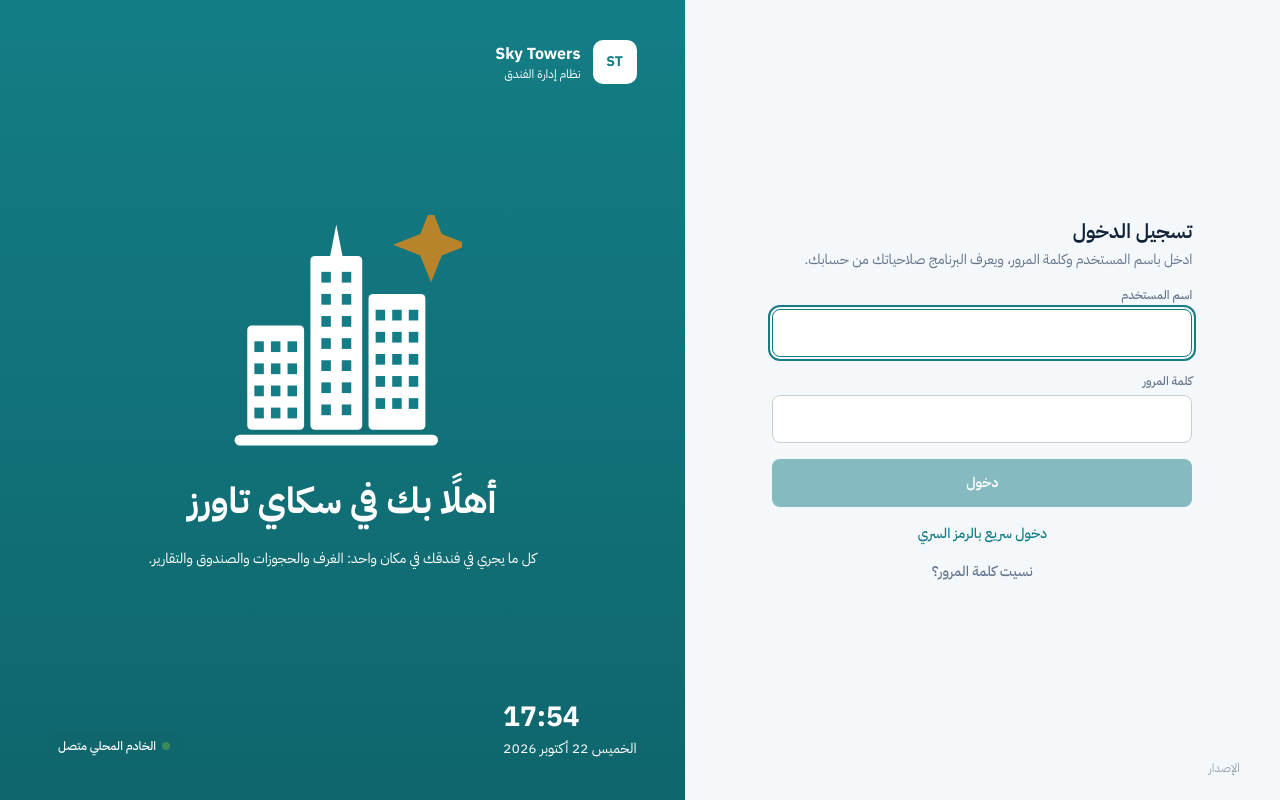
Test case: a wrong password says how many attempts are left, then until when the account is locked
Type "admin" into the field labelled "اسم المستخدم".
click(982, 333); type("admin")  # box [772,309,1192,357]
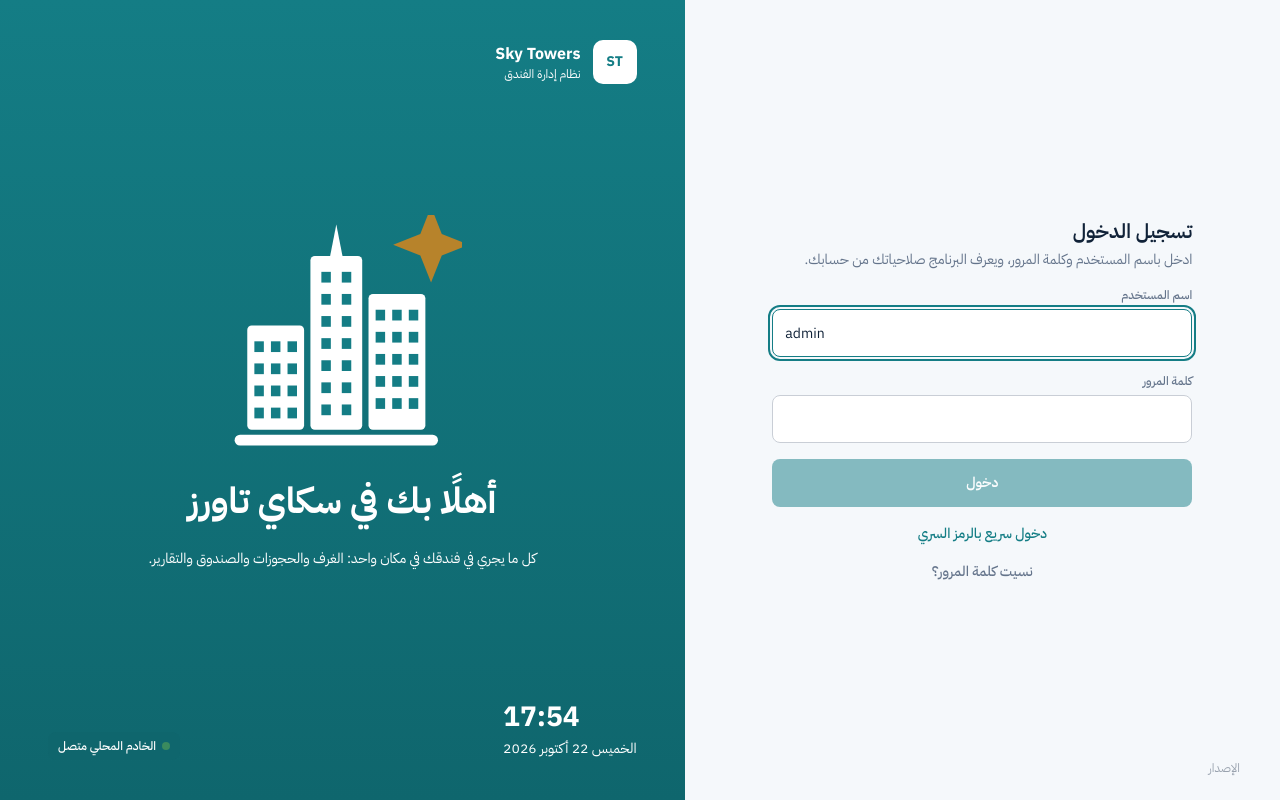
Type "nope" into the password field labelled "كلمة المرور".
click(982, 419); type("nope")  # box [772,395,1192,443]
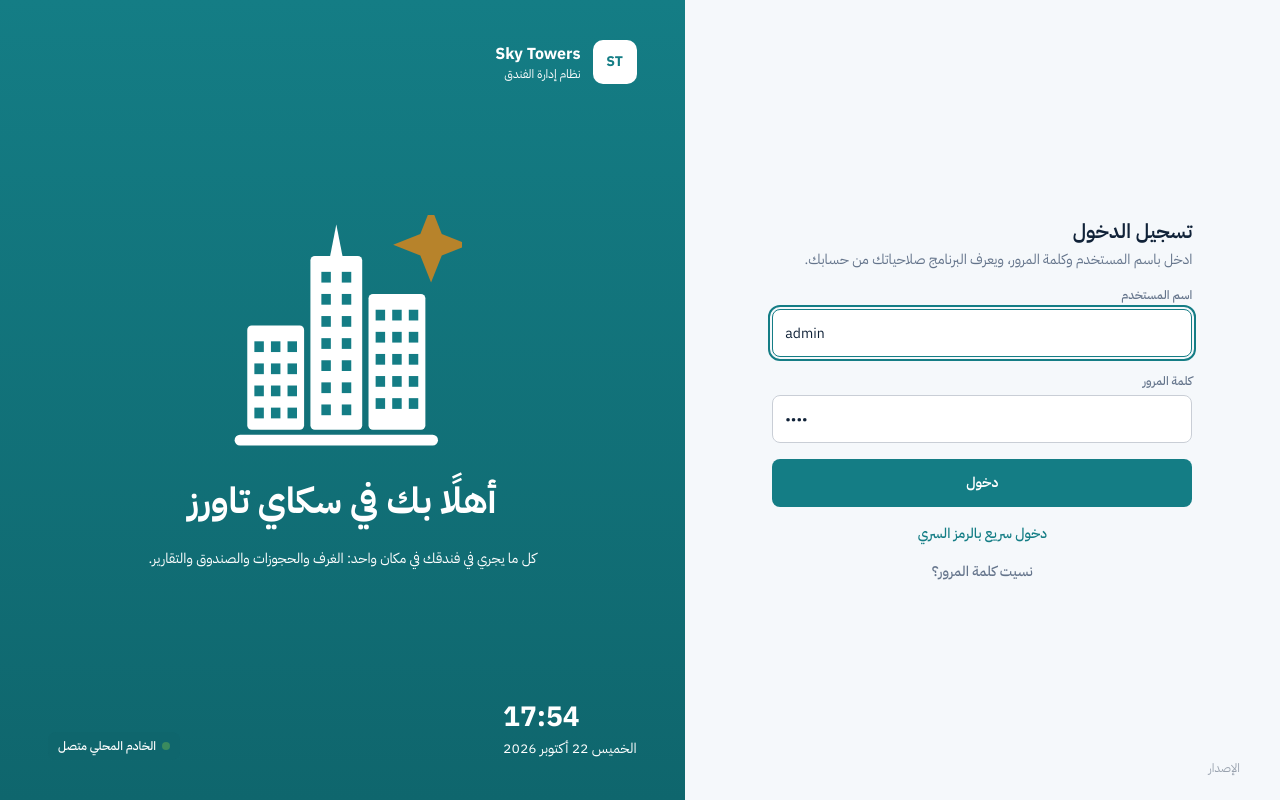
Click the button "دخول".
click(982, 483)  # box [772,459,1192,507]
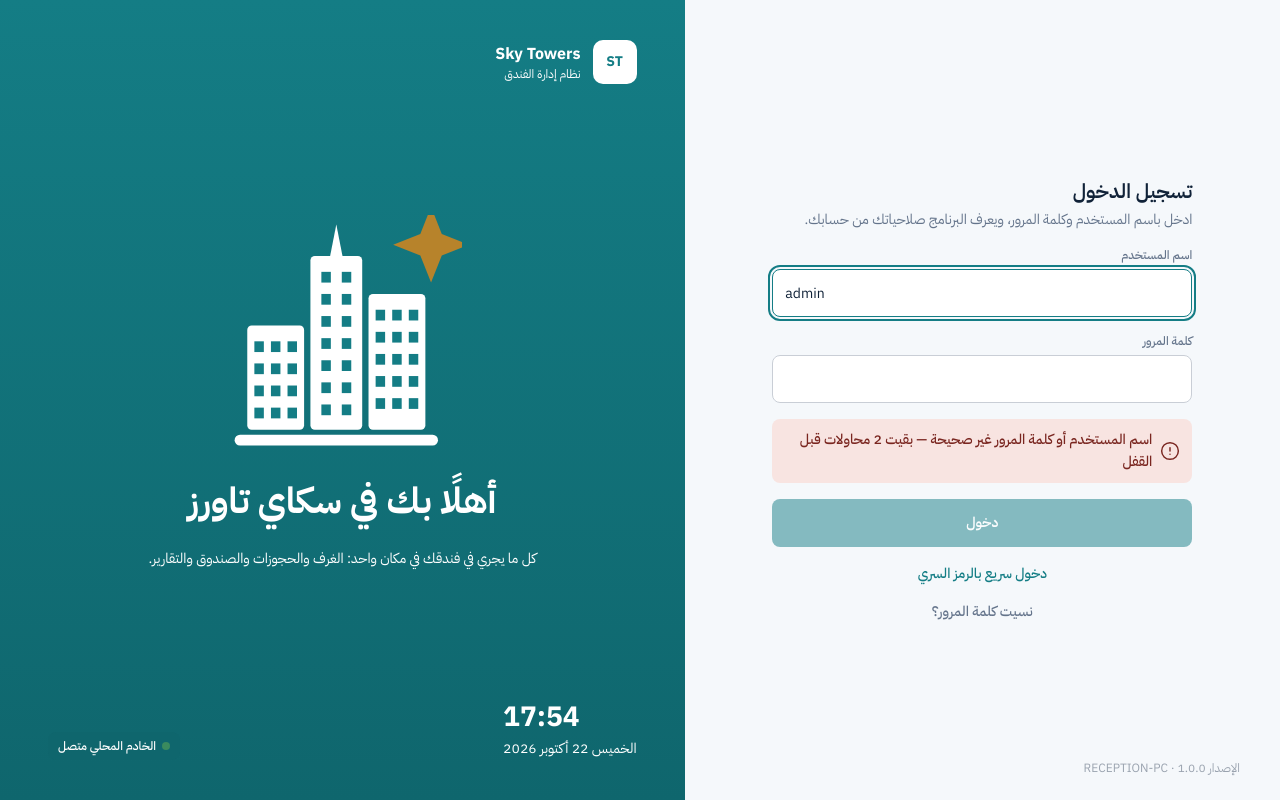
Check: the text "اسم المستخدم أو كلمة المرور غير صحيحة — بقيت 2 محاولات قبل القفل" is shown, box [772,419,1192,483]
Type "nope" into the password field labelled "كلمة المرور".
click(982, 379); type("nope")  # box [772,355,1192,403]
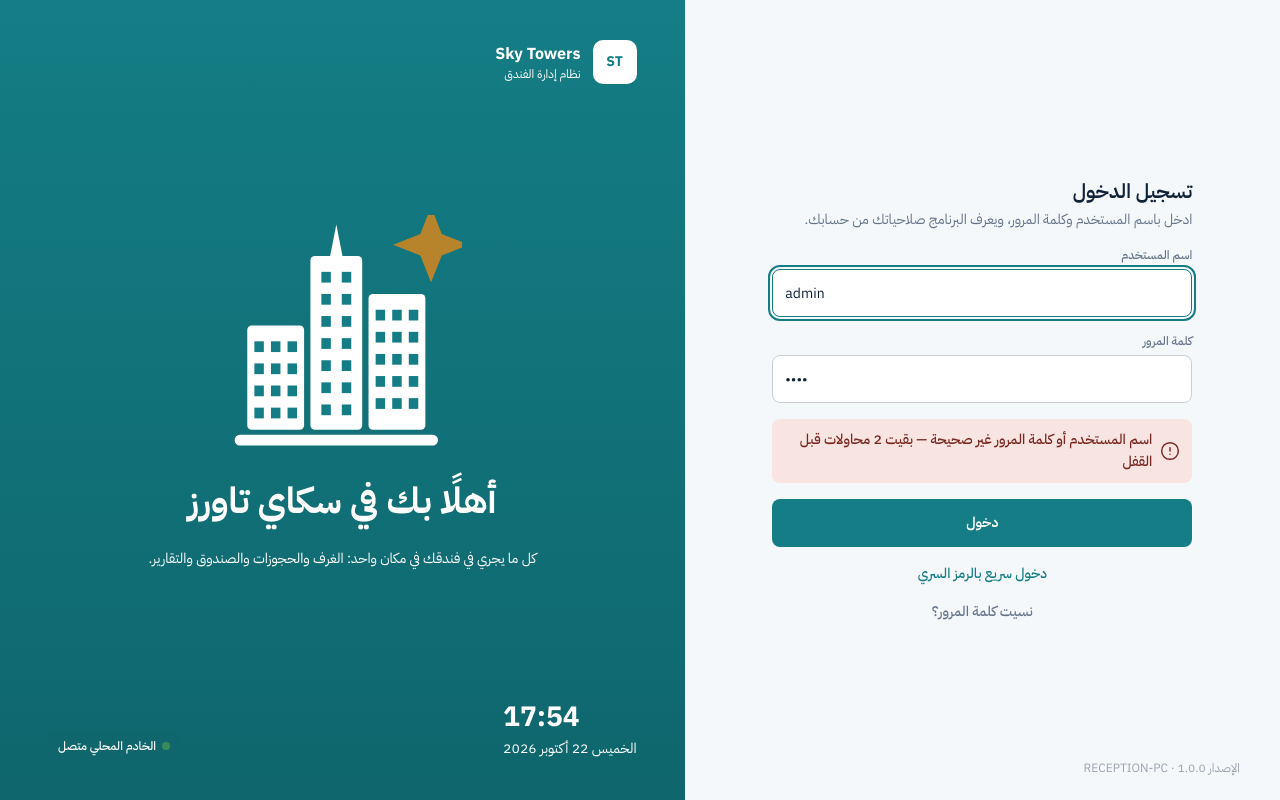
Click the button "دخول".
click(982, 523)  # box [772,499,1192,547]
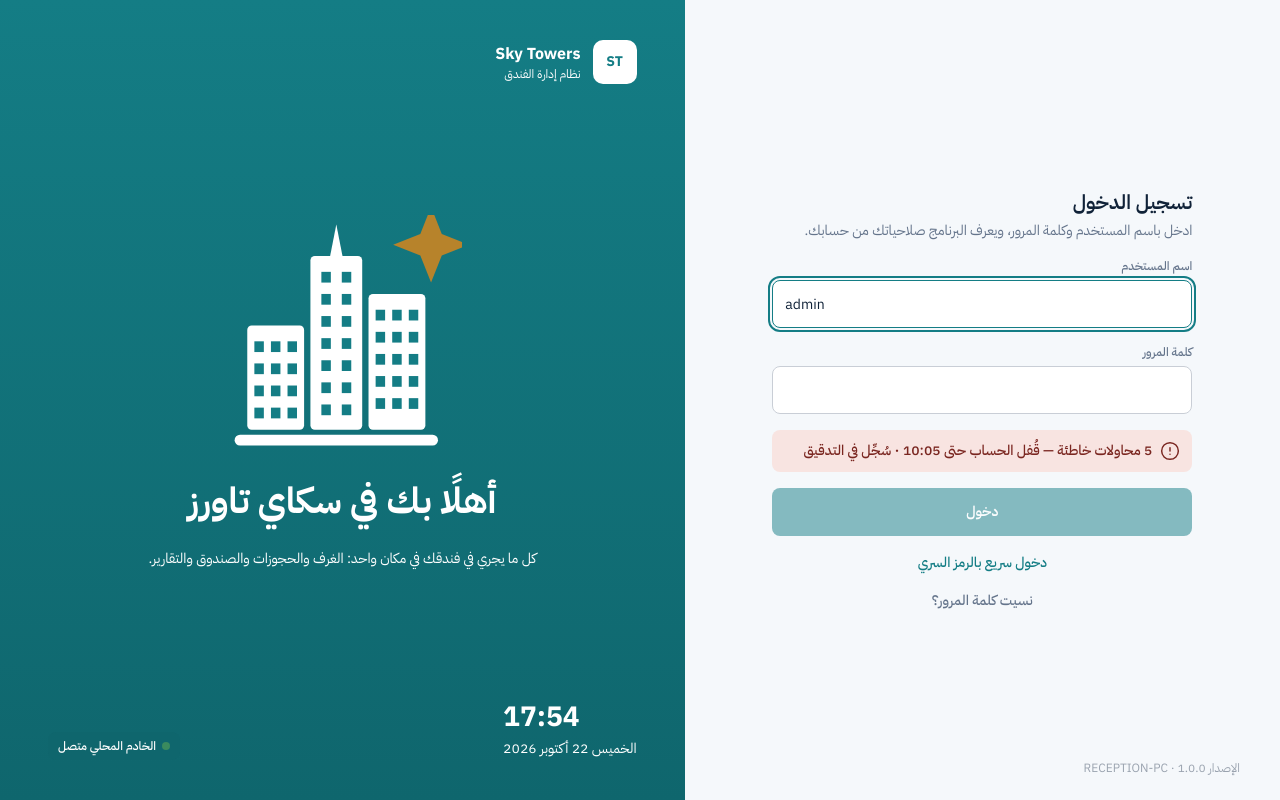
Check: the text "5 محاولات خاطئة — قُفل الحساب حتى 10:05 · سُجِّل في التدقيق" is shown, box [772,430,1192,472]
